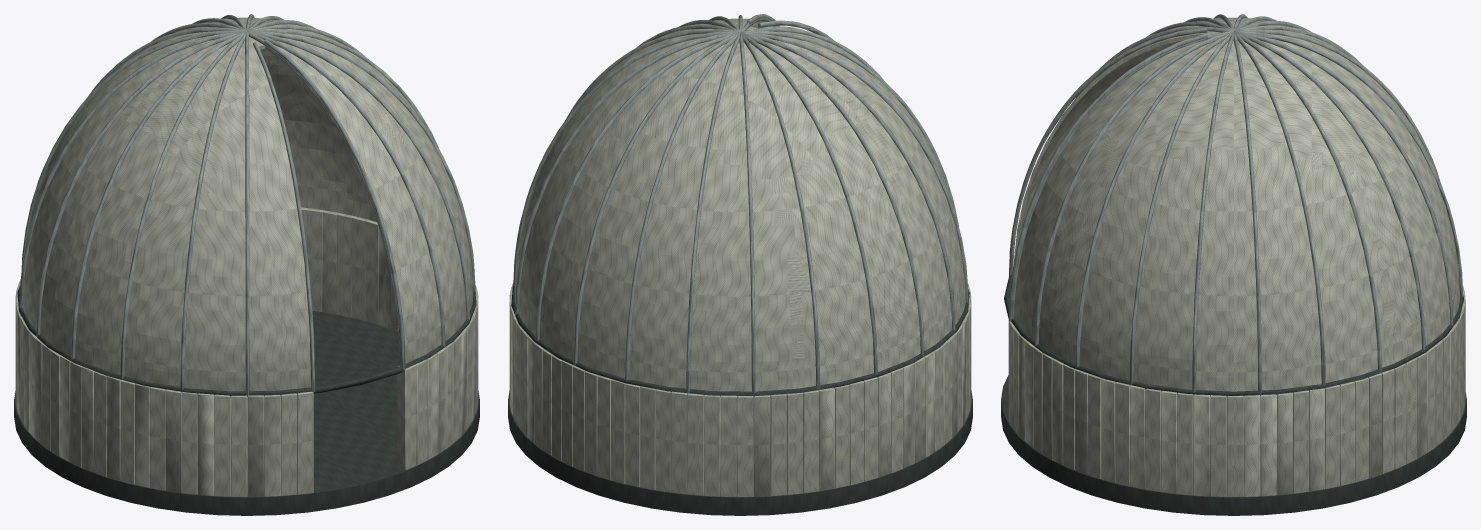
Rendered from observatory-lod.glb.
The picture shows the model from 3 angles, left to right: view 1: azimuth 30°, elevation 25°; view 2: azimuth 150°, elevation 25°; view 3: azimuth 270°, elevation 25°; orthographic projection.
Visible parts, largest first — view 1: observatory-cover, observatory-cover.001, observatory-ribs, observatory-base, observatory-base.001; view 2: observatory-cover, observatory-ribs, observatory-base, observatory-base.001, observatory-cover.001; view 3: observatory-cover, observatory-cover.001, observatory-ribs, observatory-base, observatory-base.001.
Boxes of the visible parts, x1=… form: observatory-cover: x1=15, y1=17, x2=478, y2=496; observatory-cover.001: x1=124, y1=33, x2=473, y2=391; observatory-ribs: x1=19, y1=14, x2=475, y2=395; observatory-base: x1=14, y1=311, x2=479, y2=515; observatory-base.001: x1=17, y1=285, x2=476, y2=396; observatory-cover: x1=509, y1=26, x2=971, y2=496; observatory-ribs: x1=513, y1=14, x2=968, y2=393; observatory-base: x1=508, y1=390, x2=972, y2=515; observatory-base.001: x1=511, y1=286, x2=969, y2=396; observatory-cover.001: x1=694, y1=18, x2=955, y2=212; observatory-cover: x1=1008, y1=17, x2=1465, y2=496; observatory-cover.001: x1=1013, y1=21, x2=1228, y2=389; observatory-ribs: x1=1009, y1=14, x2=1463, y2=394; observatory-base: x1=1001, y1=375, x2=1466, y2=515; observatory-base.001: x1=1004, y1=275, x2=1463, y2=395.
Size of the model in its own units: 12 by 11 by 12.
Materials: 3 (3 with a texture image).
